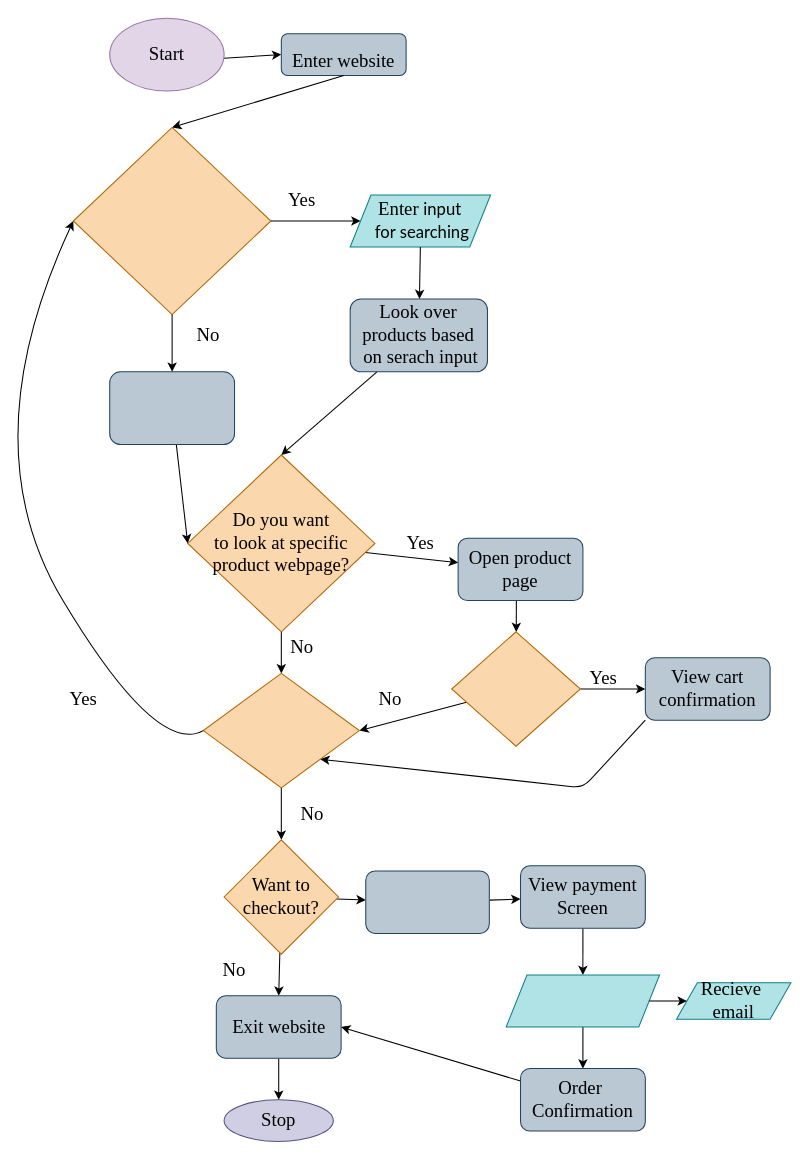
Some shapes in this 810 by 1160 pixel diagram are drawn without their labels. Each missing label, with the centre of its shape:
Do you want to enter search for a product ?: point (171, 220)
Enter payment information: point (582, 1000)
Look over products on homepage: point (172, 408)
View Cart: point (427, 901)
Want to add to cart?: point (515, 688)
Want to continue shopping?: point (280, 730)
